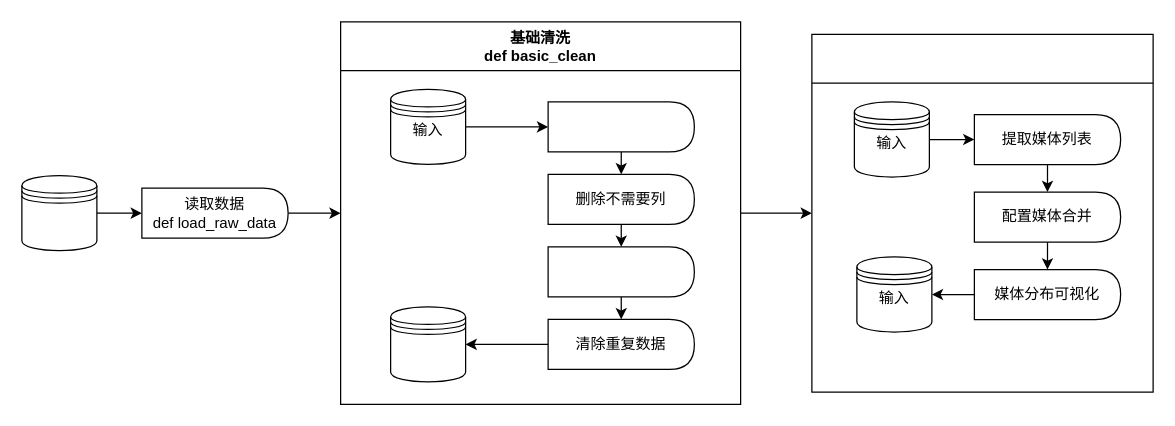
This 1175x426 diagram has some shape labels left out. The shapes that lost their labels are listed below. From the top down, each one's box as (x1, y1, x2, y2) in pixels, then its label:
(547, 101, 694, 152): 规范化日期格式
(21, 174, 97, 251): Json 原始数据
(811, 33, 1153, 392): 处理媒体来源 def media_clean
(547, 246, 694, 297): 重命名列
(389, 306, 466, 382): 输出
